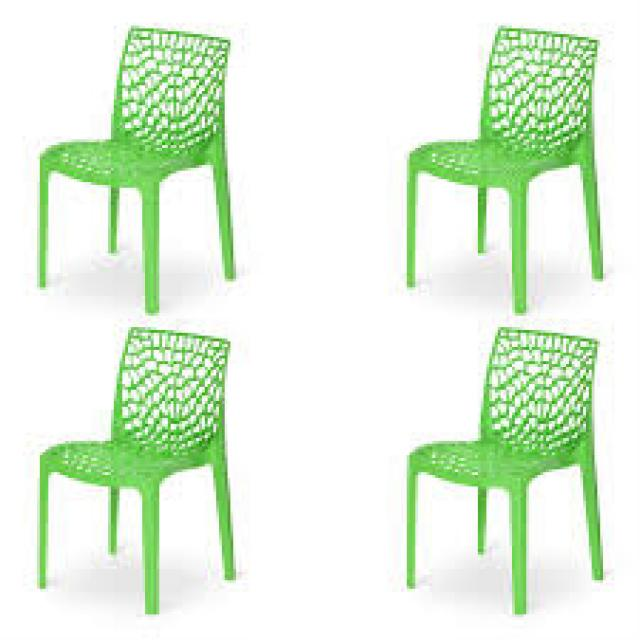chair: (397, 22, 619, 316), (399, 322, 610, 618), (30, 321, 241, 615), (35, 23, 244, 316)
